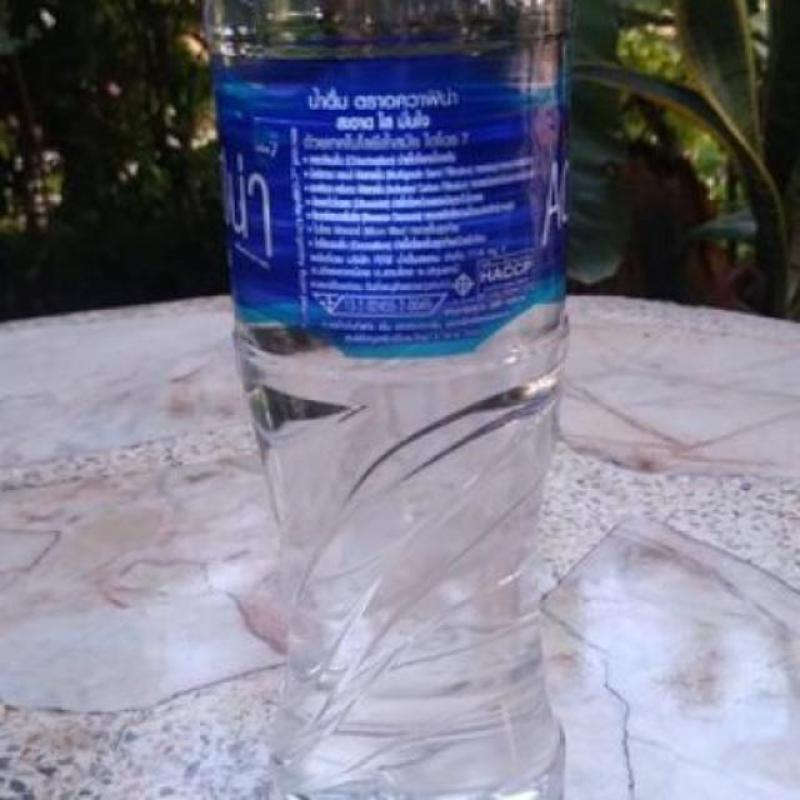botella: (200, 0, 566, 800)
